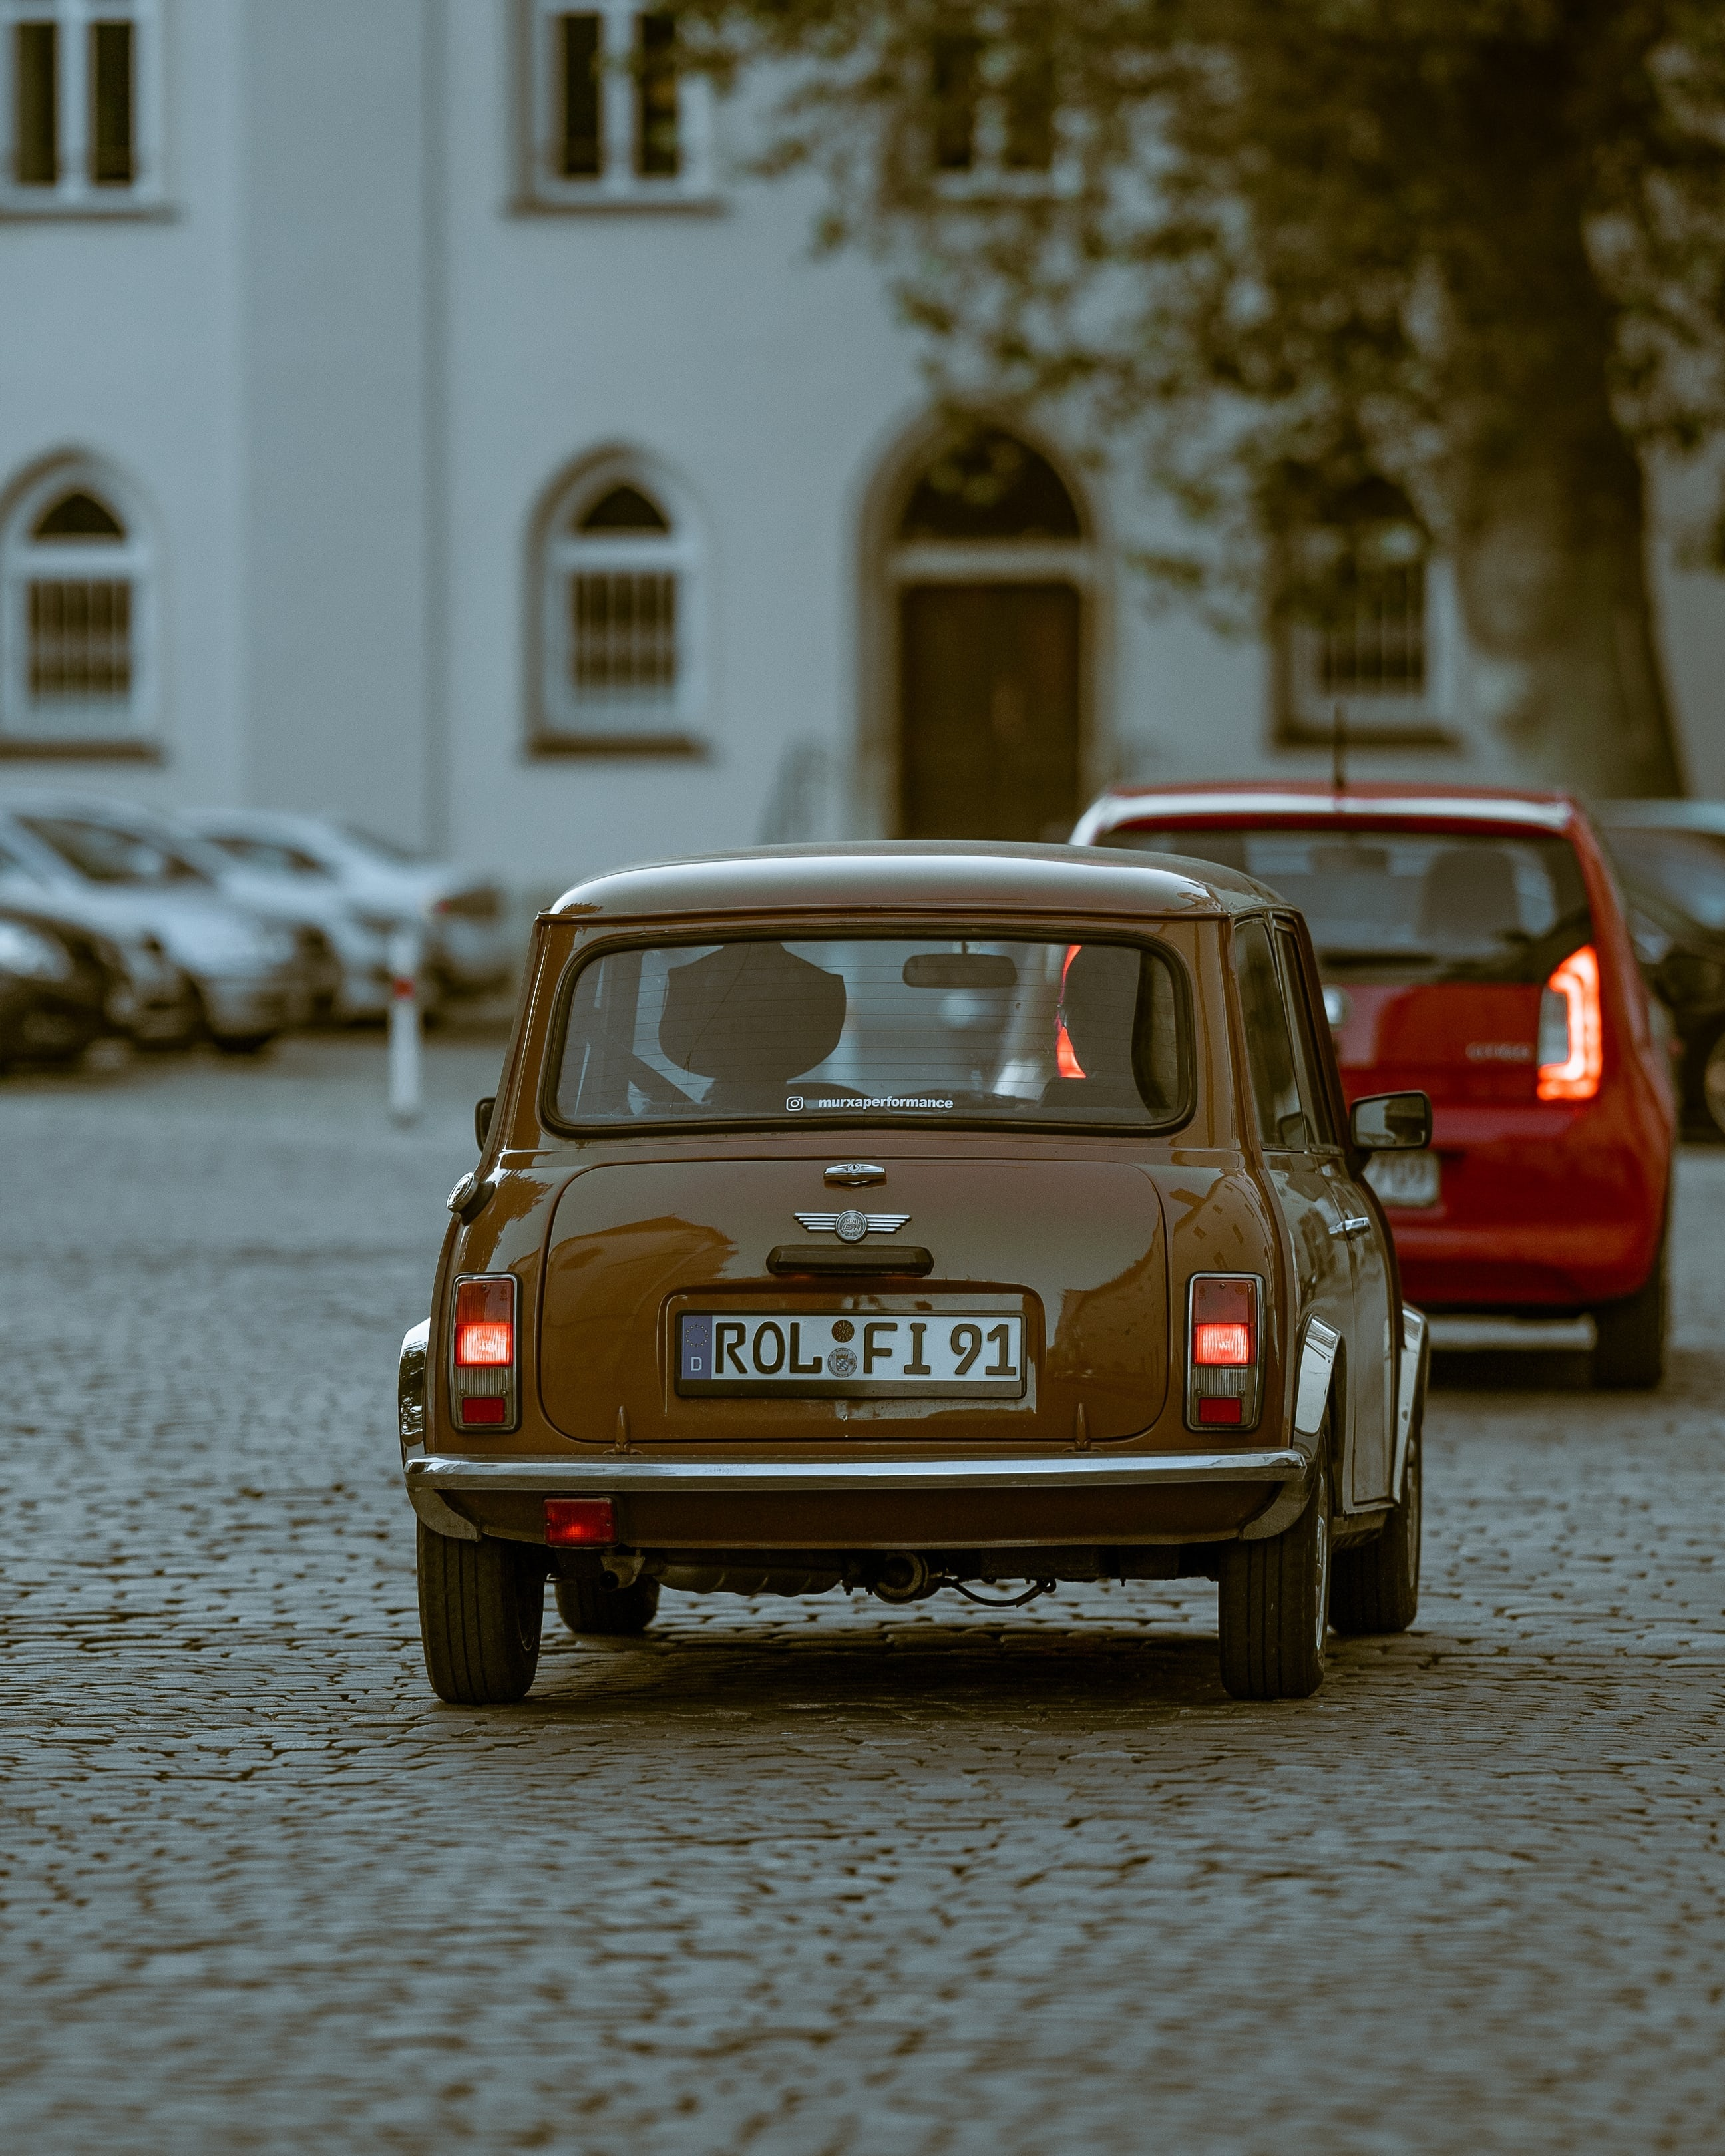plaka: (670, 1308, 1026, 1388)
